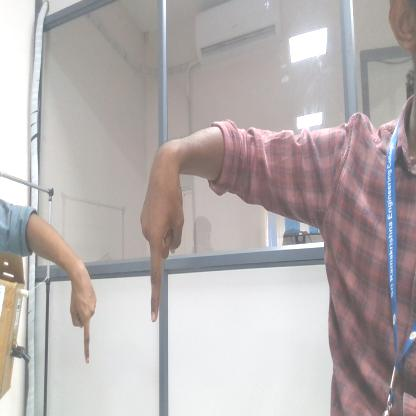Down: (138, 136, 192, 344), (64, 264, 104, 375)
